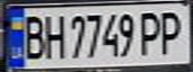4: (100, 10, 121, 57)
7: (66, 11, 87, 60), (84, 11, 103, 60)
9: (115, 9, 139, 57)
B: (18, 11, 48, 61)
H: (39, 11, 69, 60)
P: (154, 7, 187, 56), (136, 8, 166, 56)
